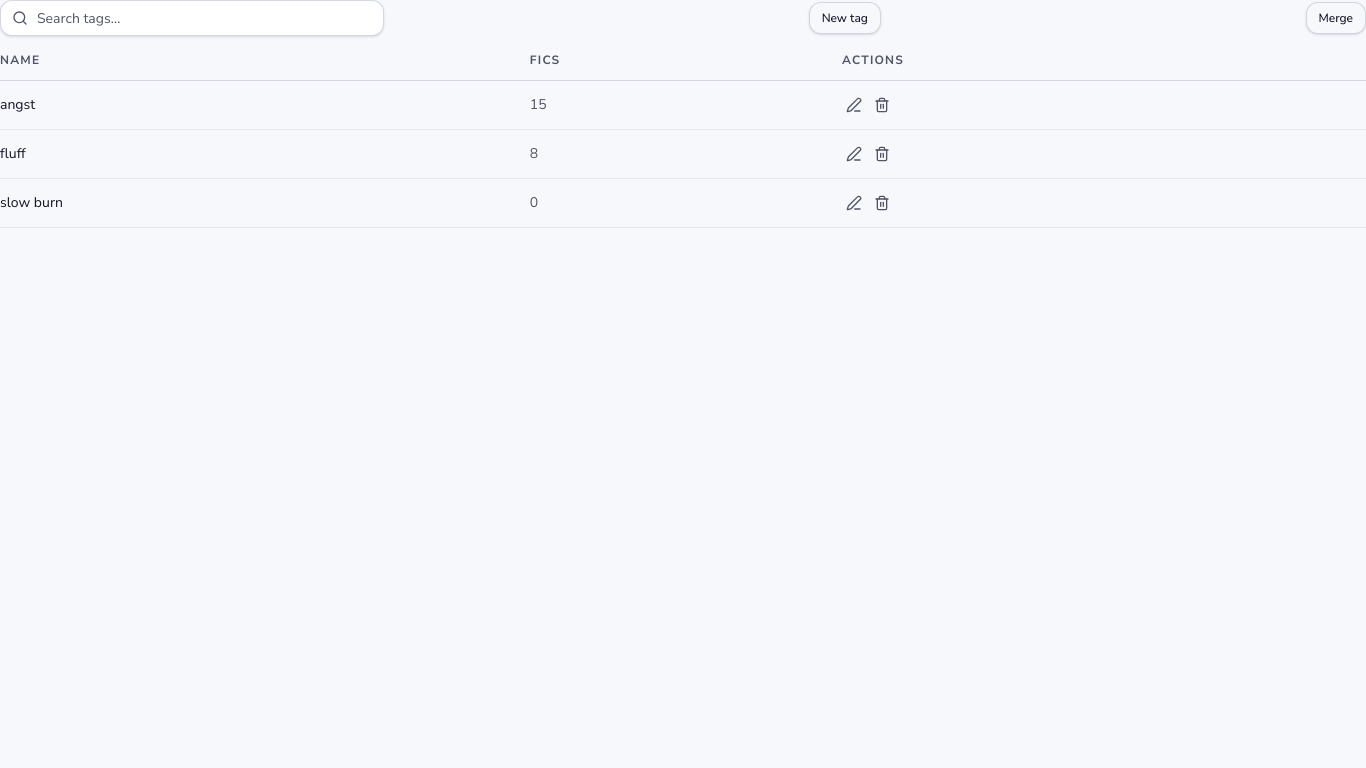
Scenario: TagsSection › opens create dialog
The image size is (1366, 768).
Check: the text "angst" is shown, box [0, 95, 35, 114]
Click the button "New tag". click: [845, 18]
box: [809, 2, 881, 34]
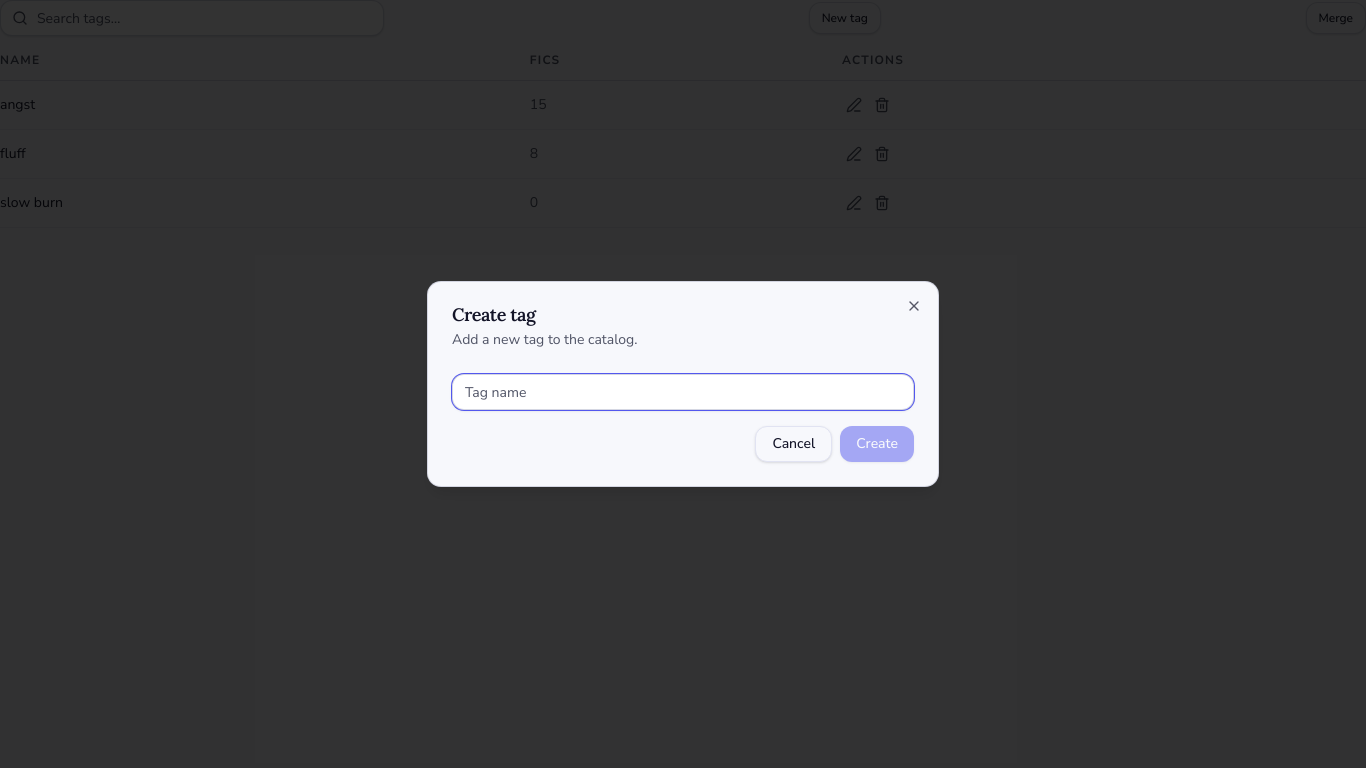
Check: the heading "Create tag" is shown, box [452, 303, 536, 326]
Check: the field with placeholder "Tag name" is shown, box [452, 374, 914, 410]
